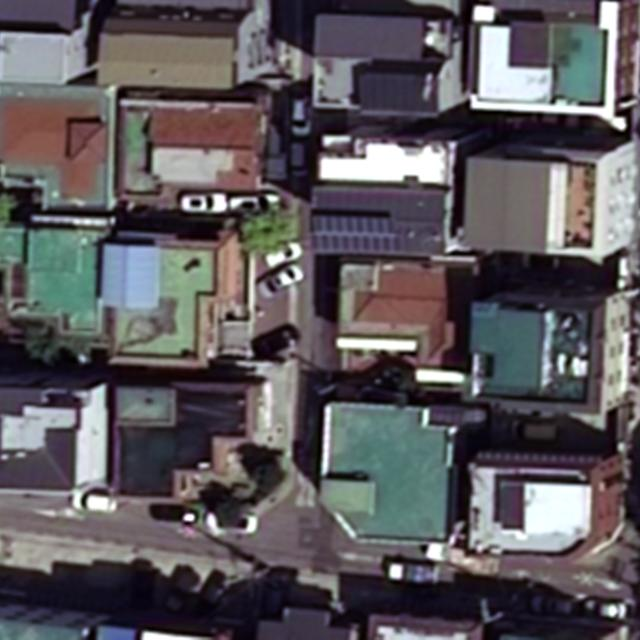panel: (310, 213, 397, 256)
